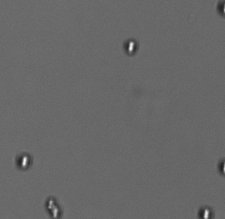Living Cell: (44, 196, 63, 217), (15, 151, 34, 171), (121, 37, 139, 56)
